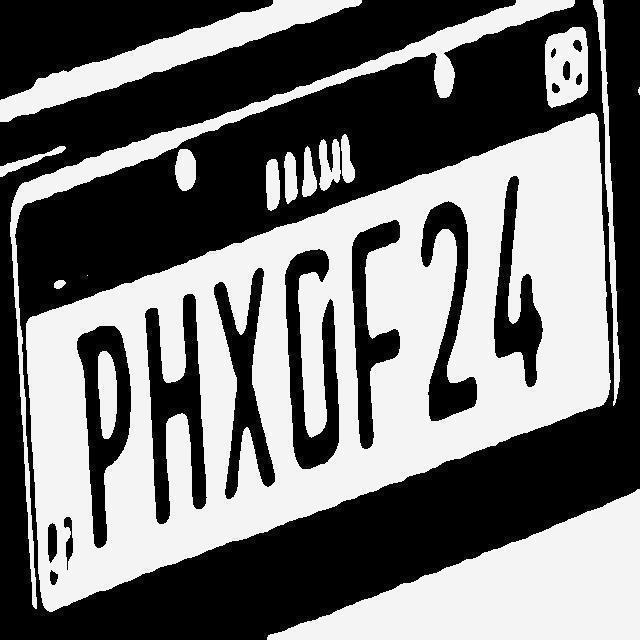0: (280, 248, 342, 472)
2: (418, 198, 479, 426)
4: (491, 173, 544, 389)
f: (352, 216, 404, 450)
h: (142, 292, 207, 524)
p: (71, 318, 132, 551)
x: (212, 264, 277, 500)
